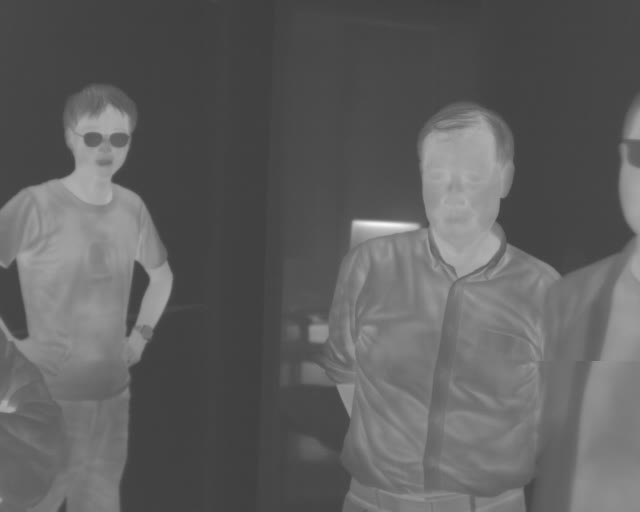face: (419, 100, 516, 240), (61, 82, 137, 180)
